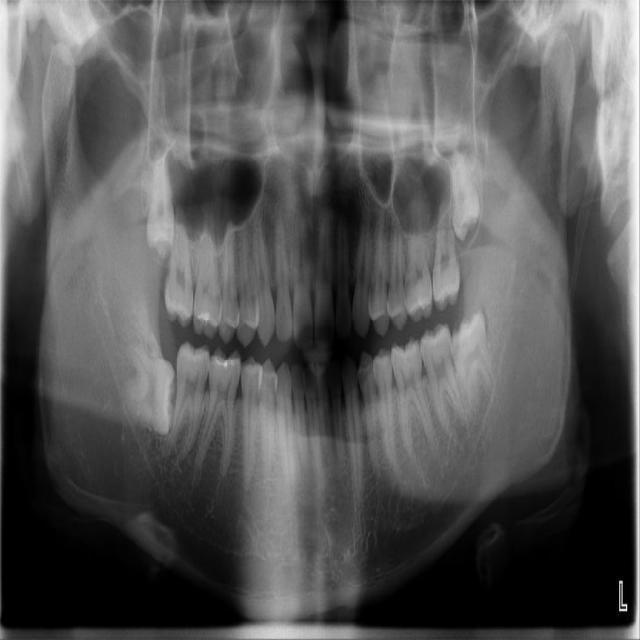Filling: (197, 309, 212, 329), (214, 357, 232, 369)
impacted tooth: (107, 339, 172, 435), (447, 312, 498, 423), (146, 156, 175, 258), (448, 151, 479, 240)
